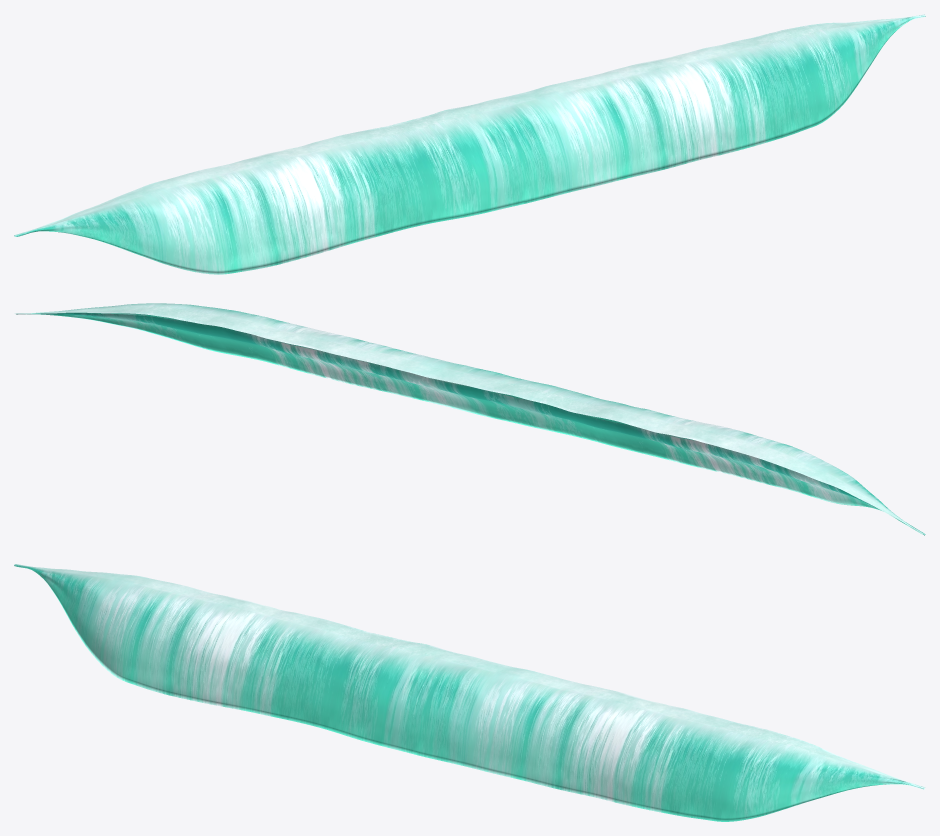
Rendered from wave_lip.glb.
The picture shows the model from 3 angles, top to bottom: view 1: azimuth 30°, elevation 25°; view 2: azimuth 150°, elevation 25°; view 3: azimuth 330°, elevation 25°; orthographic projection.
Bounding box in the file's own units: 467 × 35.25 × 48.49.
1 material, 1 textured.
